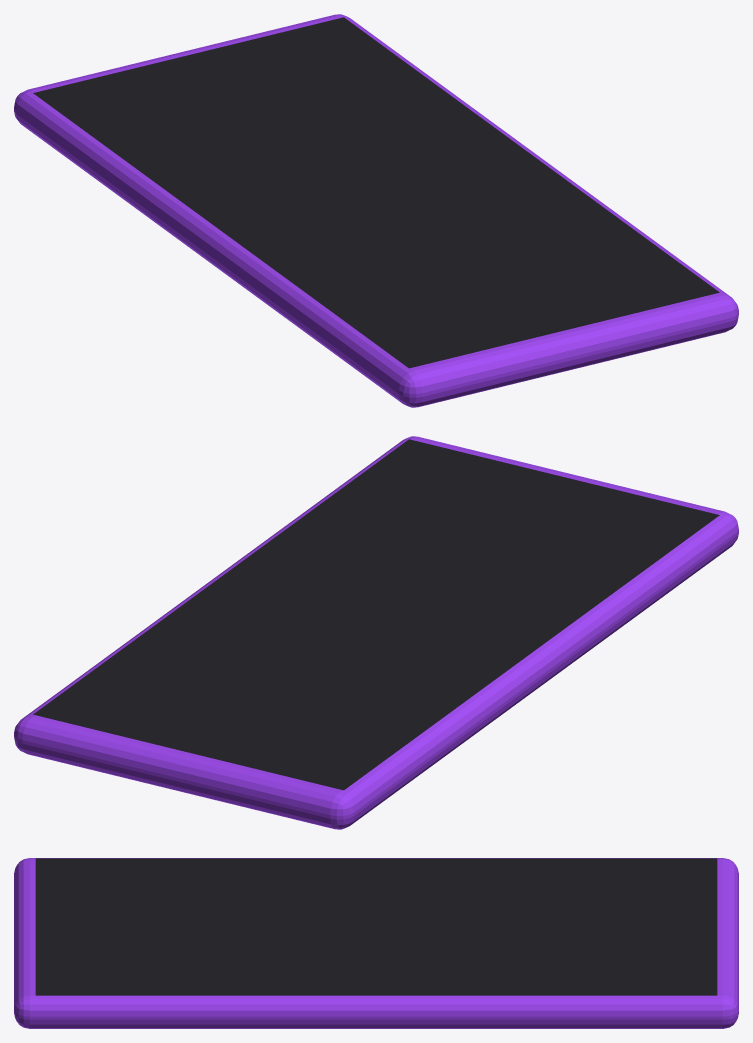
File: Phone_948.glb
3 renders of one model, top to bottom at view 1: azimuth 30°, elevation 25°; view 2: azimuth 150°, elevation 25°; view 3: azimuth 270°, elevation 25°, orthographic. The views are drawn at different scales.
Parts seen in each view (by area): view 1: Phone_Screen, Phone_Body; view 2: Phone_Screen, Phone_Body; view 3: Phone_Screen, Phone_Body.
Part boxes in pixels (x1,y1,x2,y2): Phone_Screen: [33, 17, 719, 368]; Phone_Body: [14, 14, 738, 407]; Phone_Screen: [33, 439, 719, 790]; Phone_Body: [14, 436, 738, 829]; Phone_Screen: [35, 858, 717, 995]; Phone_Body: [14, 858, 738, 1028].
Size of the model in its own units: 0.0771 by 0.0078 by 0.1581.
